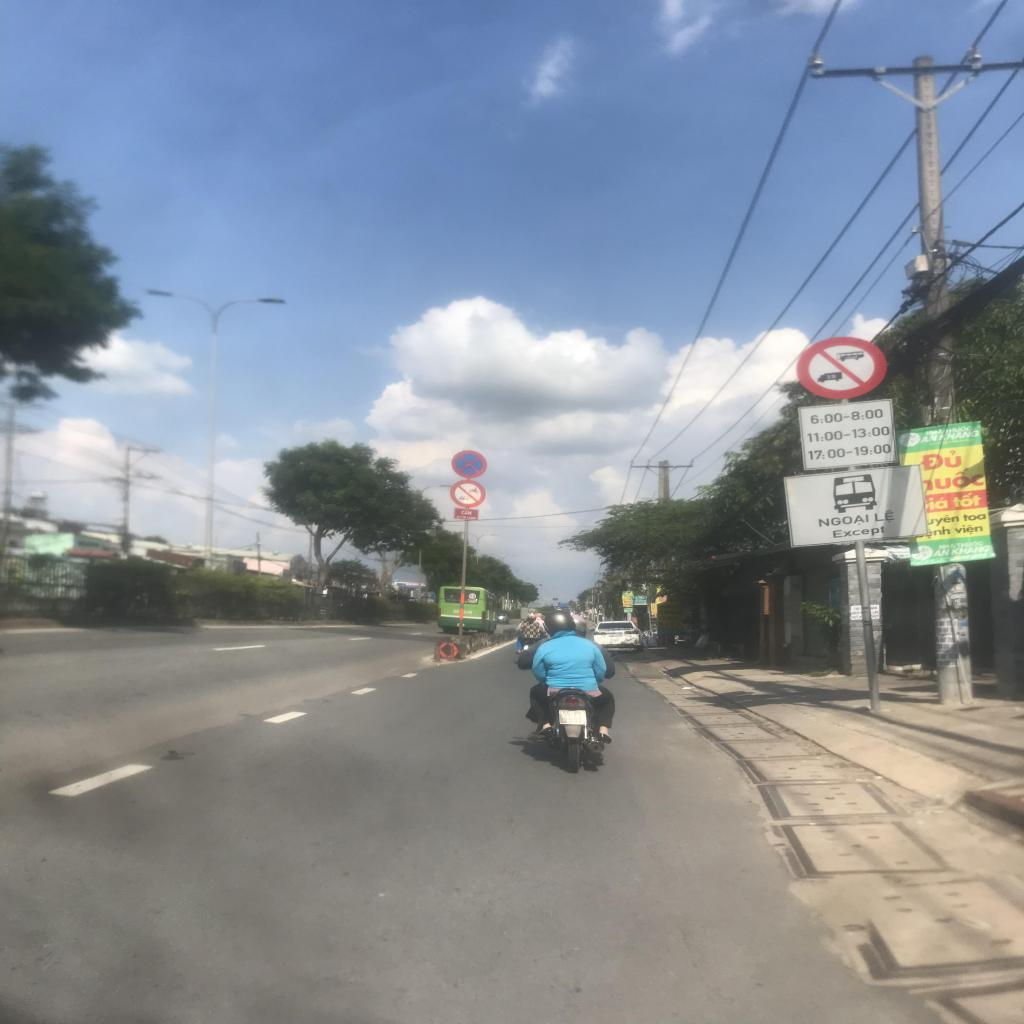cam_dung_xe_va_do_xe: (452, 450, 488, 478)
cam_o_to_tai_va_xe_khach: (797, 335, 887, 400)
cam_xe_2_banh_va_xe_3_banh_co_dong_co: (450, 480, 486, 507)
khac: (784, 465, 928, 547), (798, 400, 898, 470)
